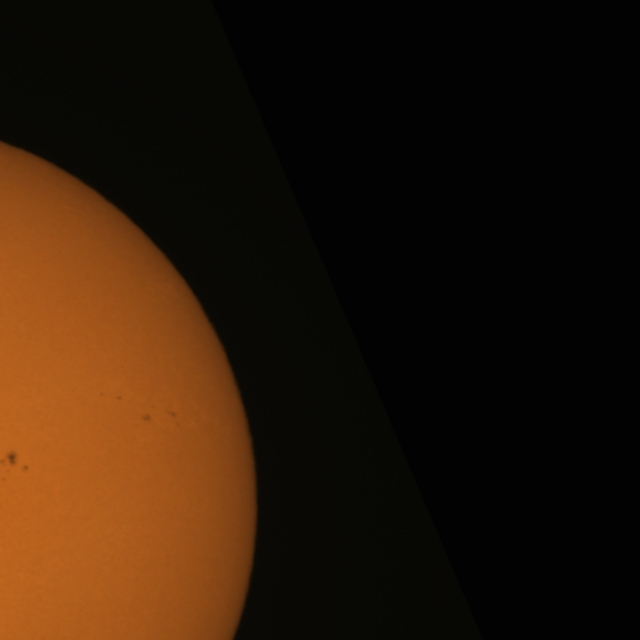sunspot: (0, 449, 30, 485), (140, 403, 156, 426), (99, 390, 123, 402), (168, 409, 180, 427), (115, 394, 123, 402)
